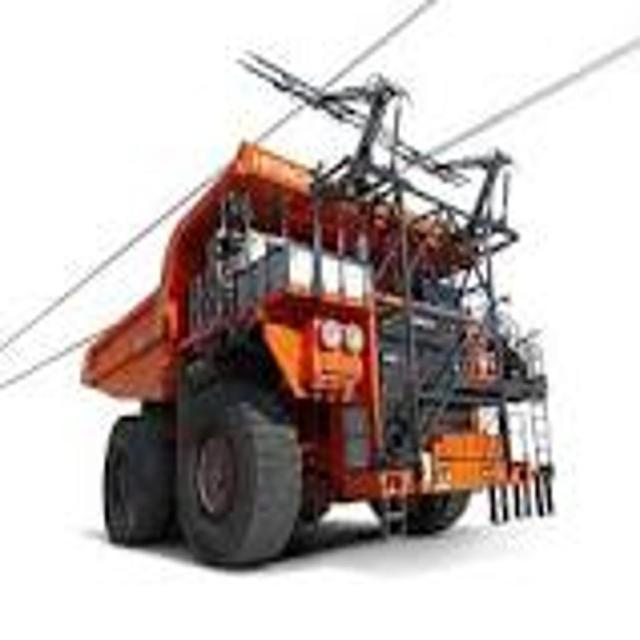dump_truck: (75, 44, 560, 594)
